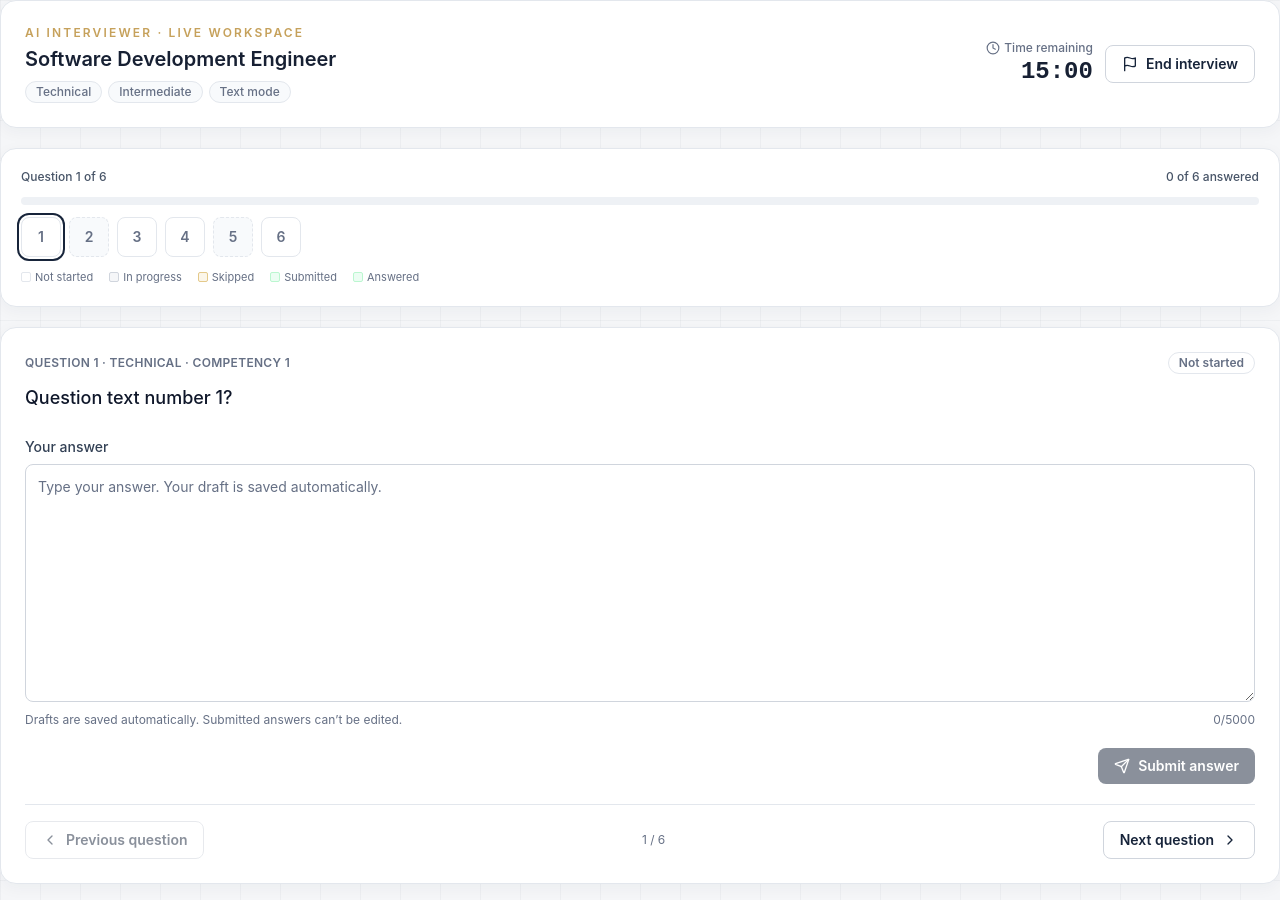
submitting is separate; submitted answers are read-only on revisit
In the text box labelled "Your answer": (640, 582) [25,464,1255,702], type "Use an index."
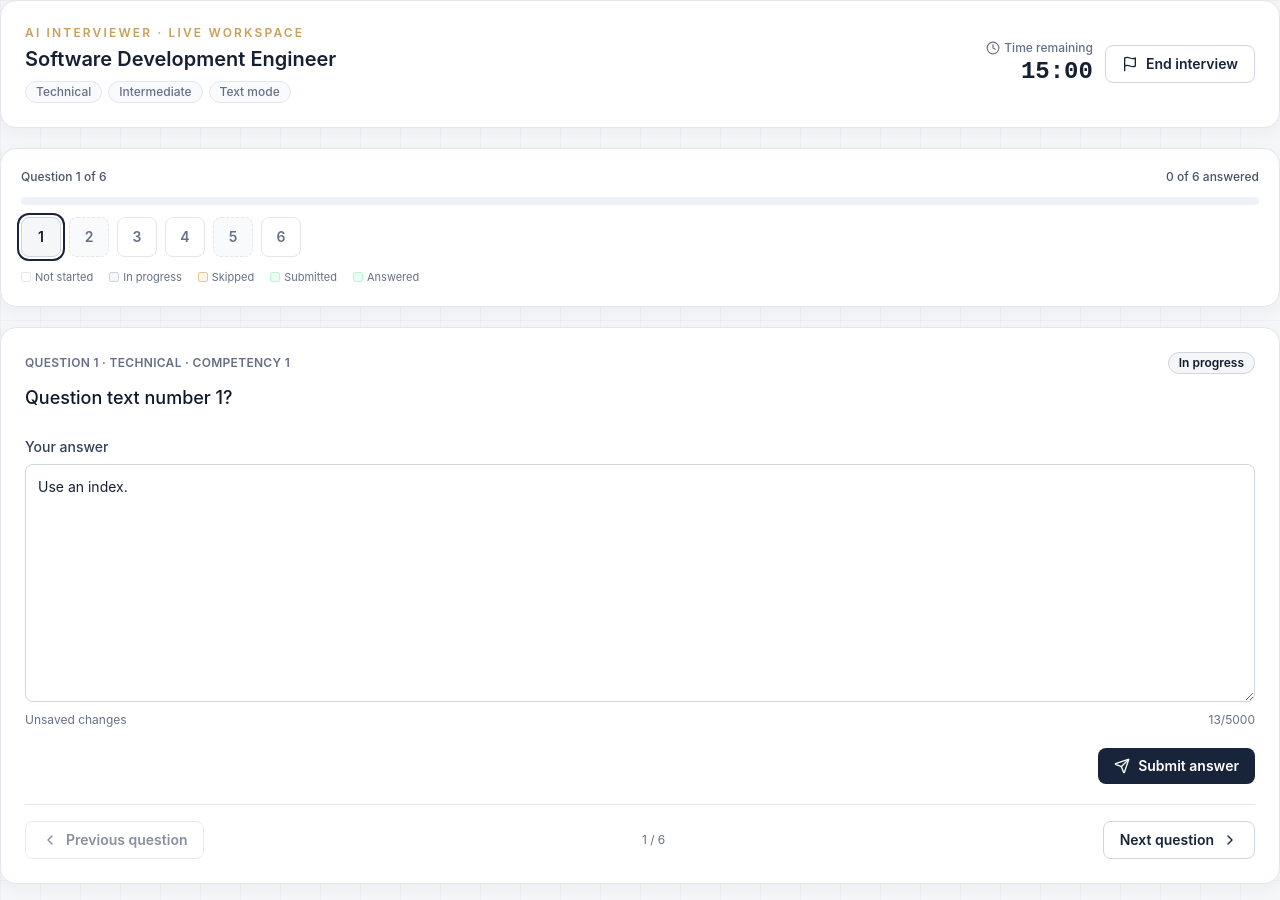
Click the button "Submit answer": click(1177, 766) [1098,748,1255,784]
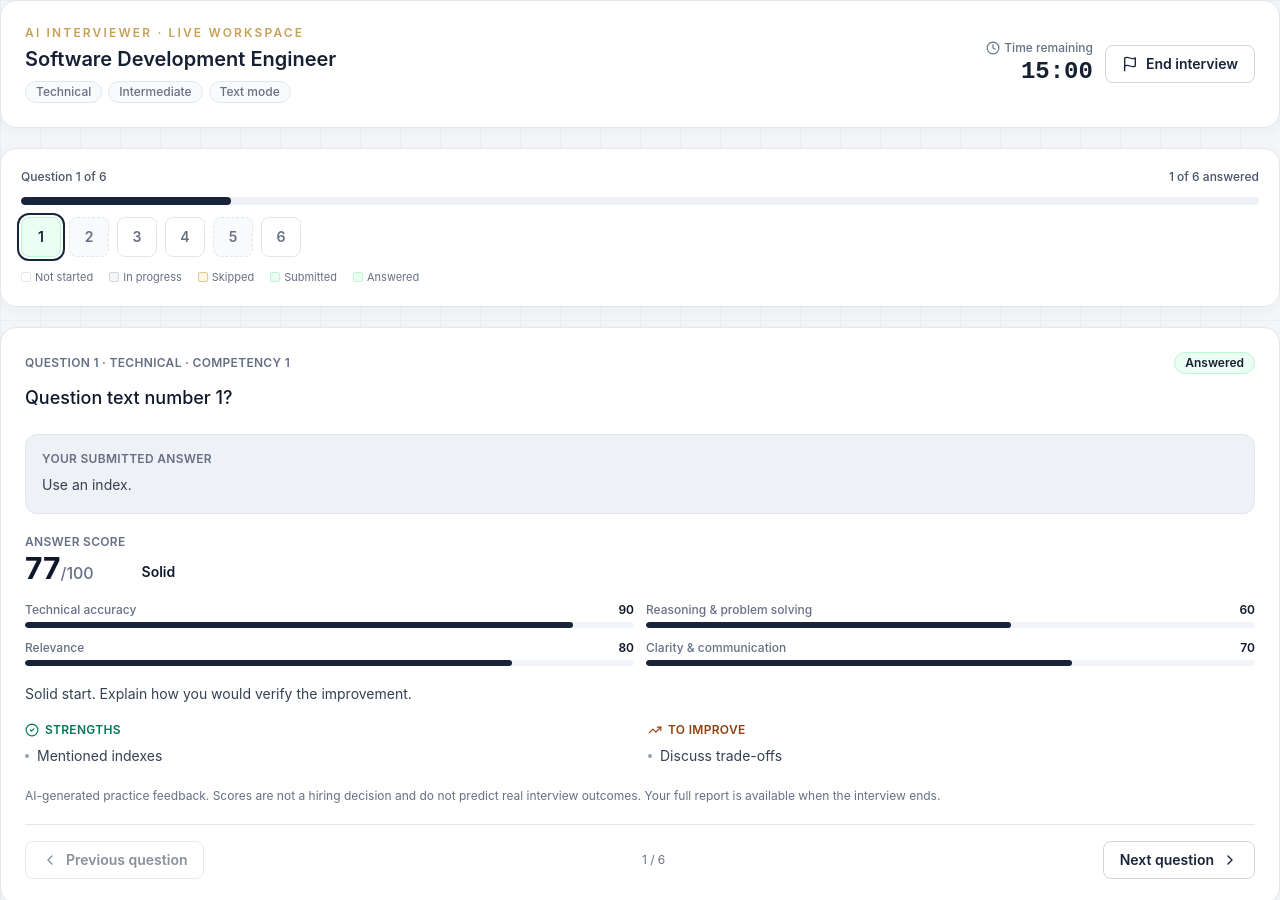
Expected: the element named "Answer feedback" is shown, [25,534,1255,768]
Expected: the label labelled "Your answer" is gone
Expected: the button named "Question 1, Answered" is shown, [21,217,61,257]
Click the button "Next question": click(1179, 860) [1103,840,1255,878]
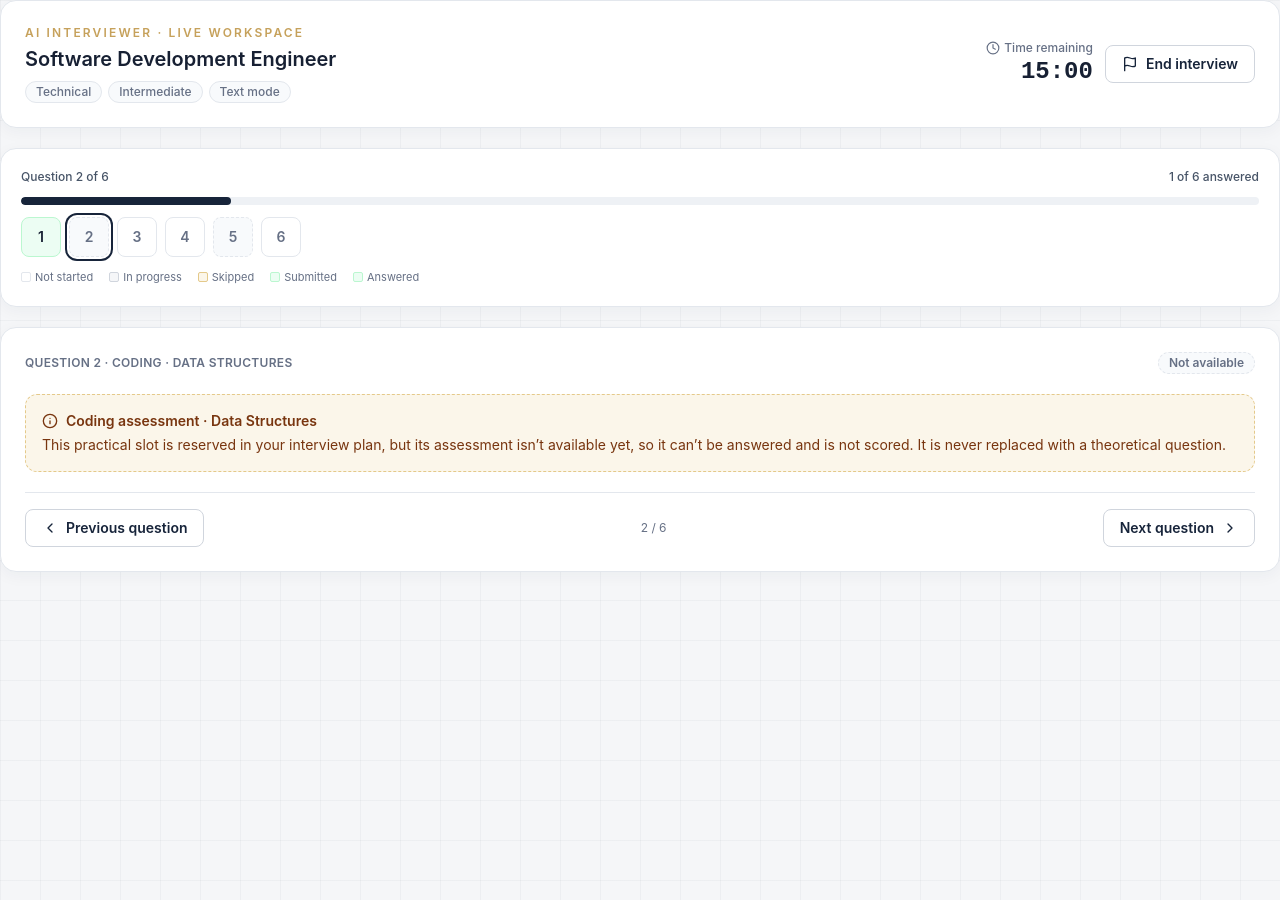
Click the button "Previous question": click(115, 528) [25,508,204,546]
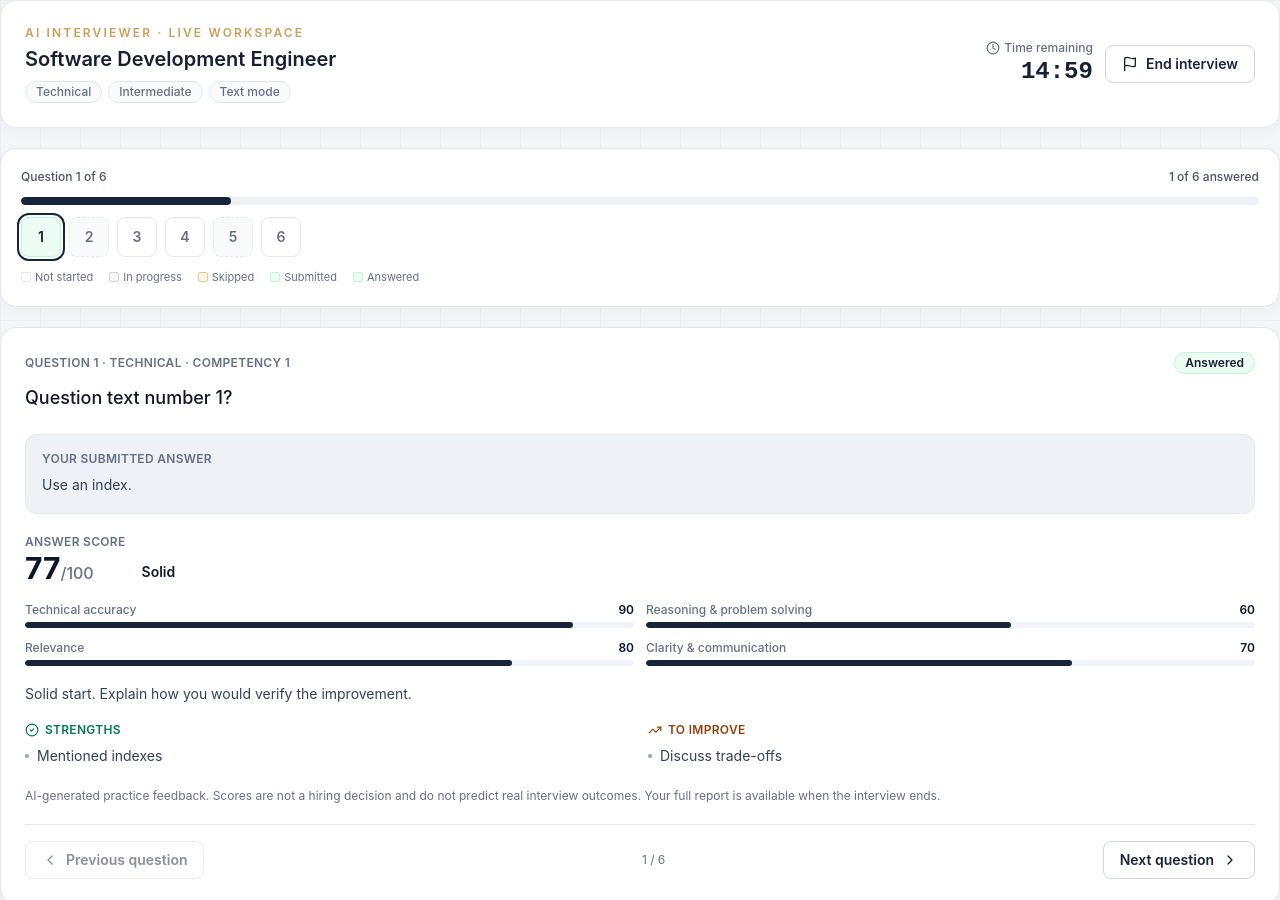
Expected: the text "Your submitted answer" is shown, [42,450,212,466]
